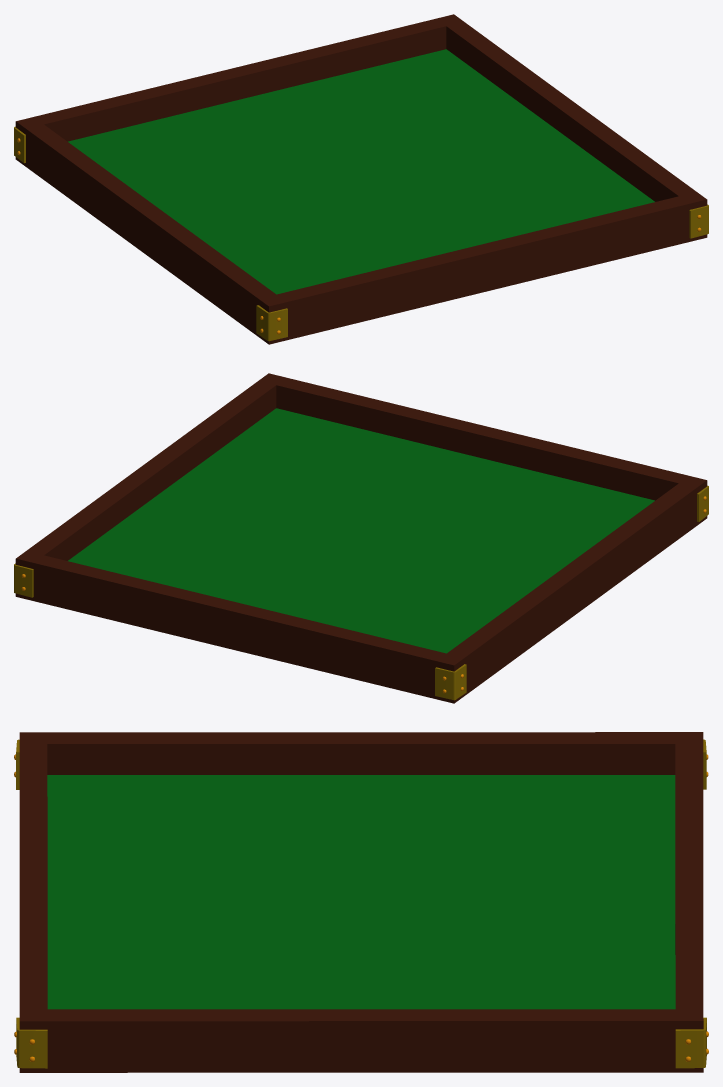
Rendered from tray.FBX.
3 renders of one model, top to bottom at view 1: azimuth 30°, elevation 25°; view 2: azimuth 150°, elevation 25°; view 3: azimuth 270°, elevation 25°, orthographic. The views are drawn at different scales.
Visible parts, largest first — view 1: Object001, Box002; view 2: Object001, Box002; view 3: Object001, Box002.
Part boxes in pixels (x1,y1,x2,y2): Object001: (68,49,654,294); Box002: (14,14,708,344); Object001: (68,408,654,653); Box002: (14,373,708,703); Object001: (47,775,675,1009); Box002: (14,732,708,1072).
Bounding box in the file's own units: 6099 × 500 × 6099.
